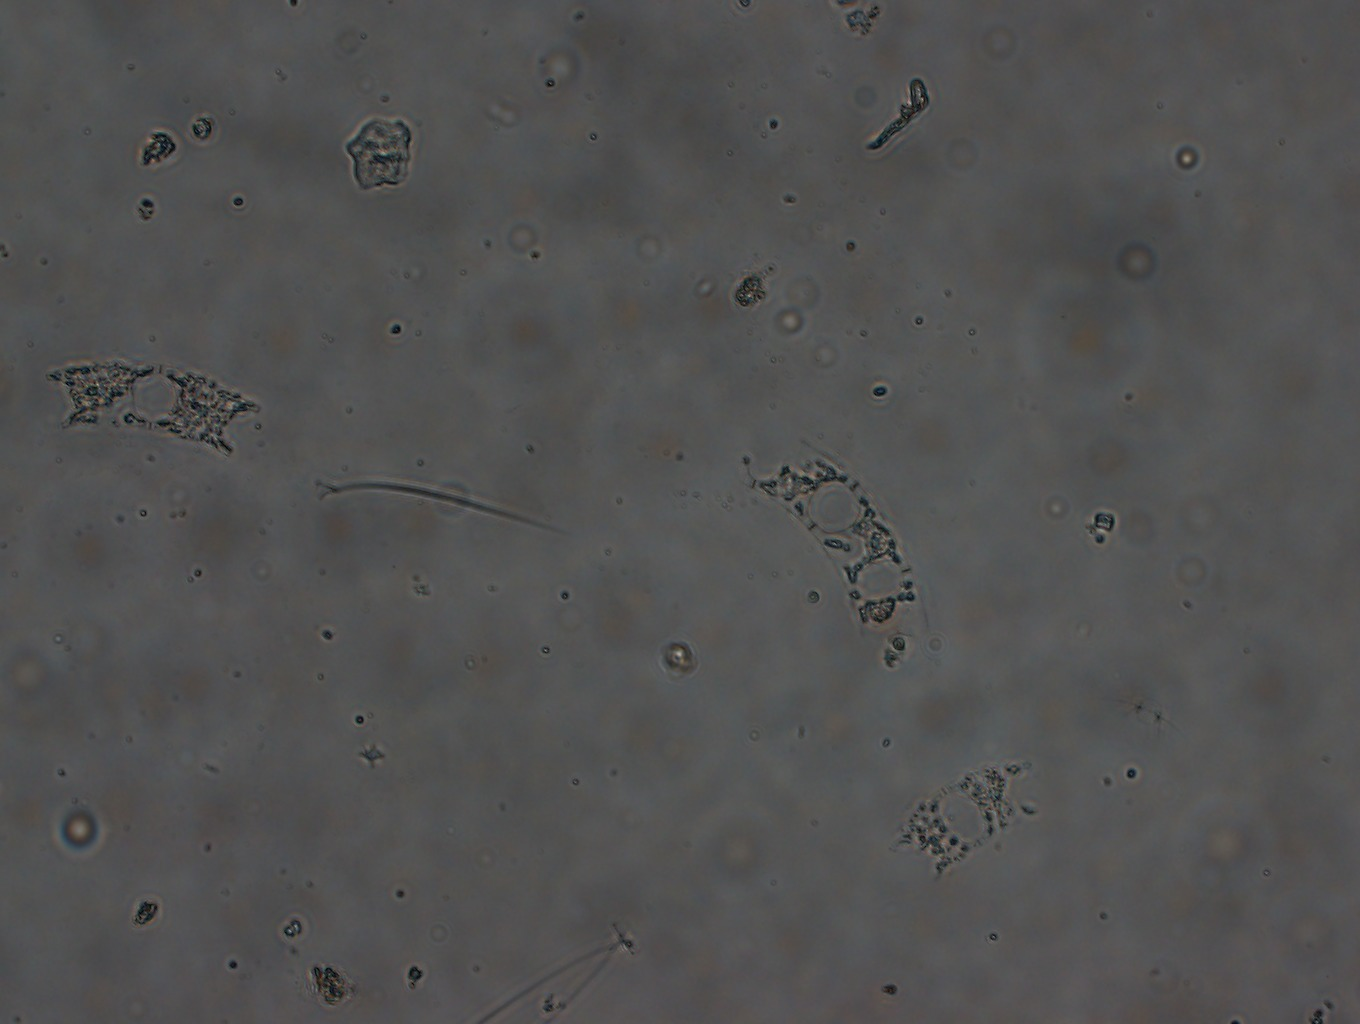eucampia: (744, 442, 931, 636), (44, 359, 262, 457), (892, 760, 1039, 879)
